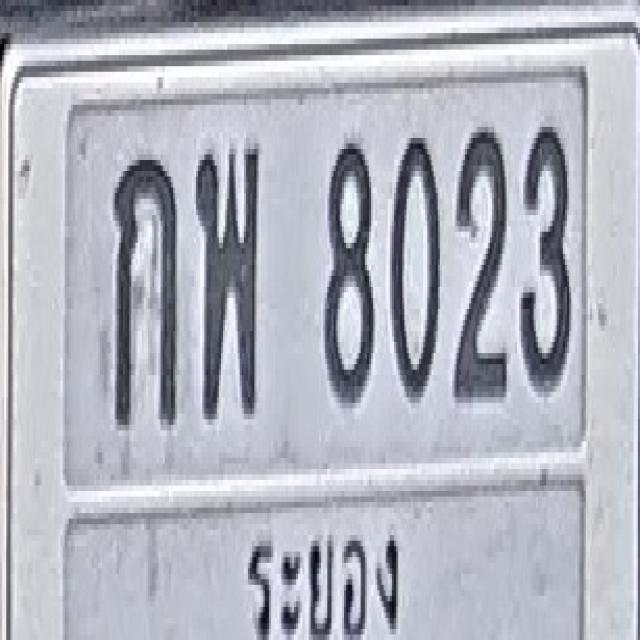-: (195, 138, 259, 419), (113, 152, 177, 428)
0: (390, 130, 440, 400)
2: (453, 124, 508, 400)
3: (519, 121, 571, 392)
8: (323, 138, 373, 403)
RYG: (244, 497, 405, 640)
